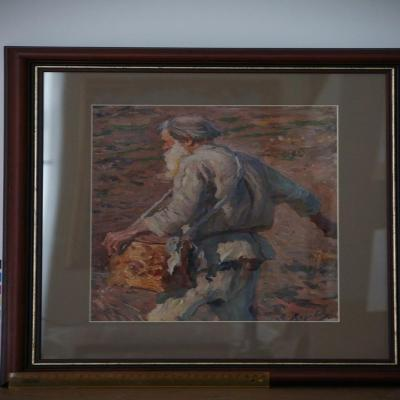painting: (4, 47, 400, 386)
